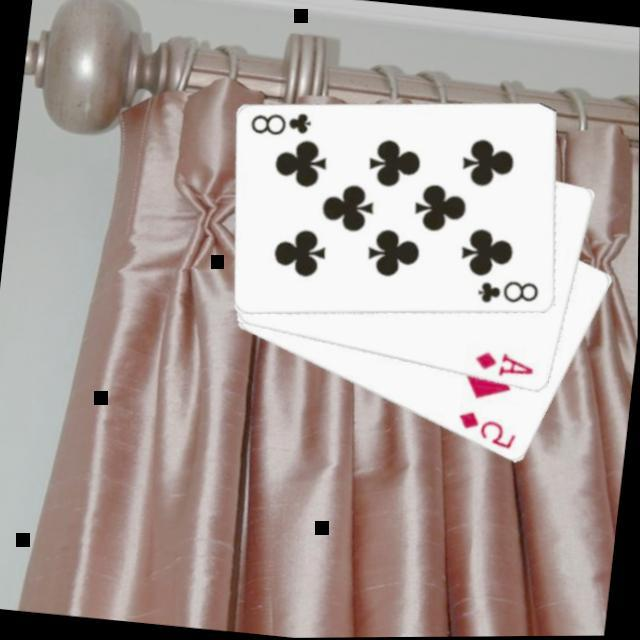5D: (455, 407, 523, 452)
8C: (249, 103, 318, 142), (476, 273, 544, 312)
AD: (473, 346, 540, 383)
